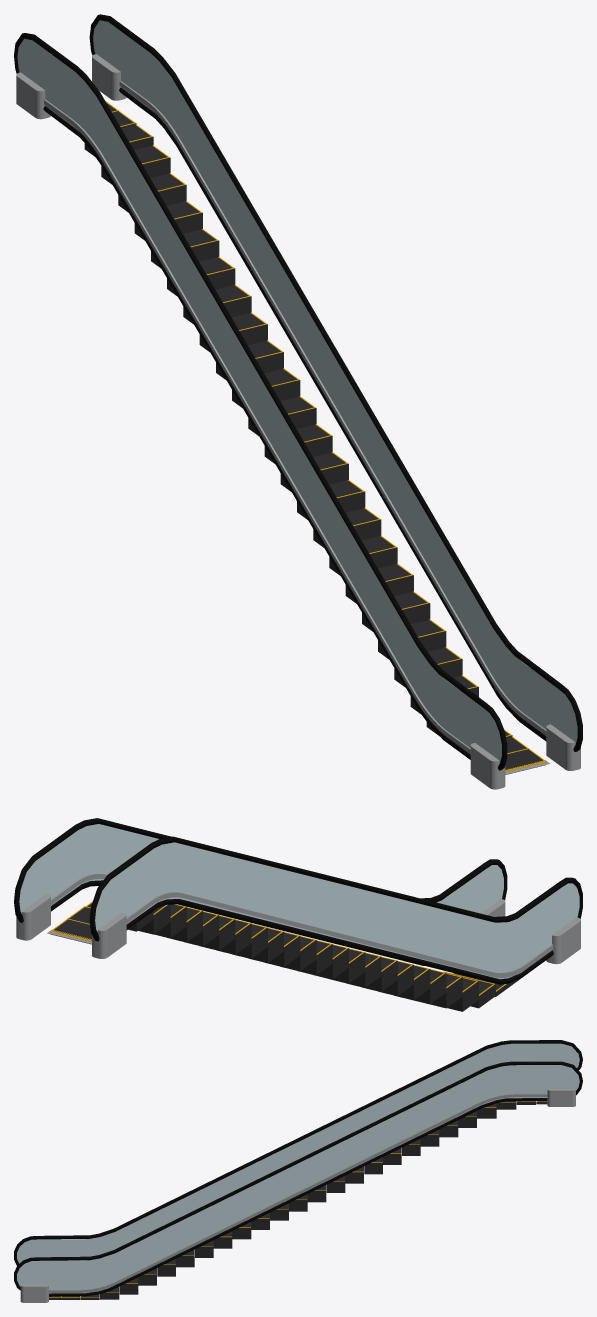
Rendered from gteki_ik_escalator_w709_rise4388_a2856.glb.
3 renders of one model, top to bottom at view 1: azimuth 30°, elevation 25°; view 2: azimuth 150°, elevation 25°; view 3: azimuth 270°, elevation 25°, orthographic. The views are drawn at different scales.
Visible parts, largest first — view 1: VIS_body; view 2: VIS_body; view 3: VIS_body.
Part boxes in pixels (x1=…): VIS_body: x1=14, y1=14, x2=582, y2=789; VIS_body: x1=14, y1=818, x2=582, y2=1011; VIS_body: x1=14, y1=1040, x2=582, y2=1302.
Size of the model in its own units: 1.23 by 5.41 by 11.56.
2 materials, 2 textured.
